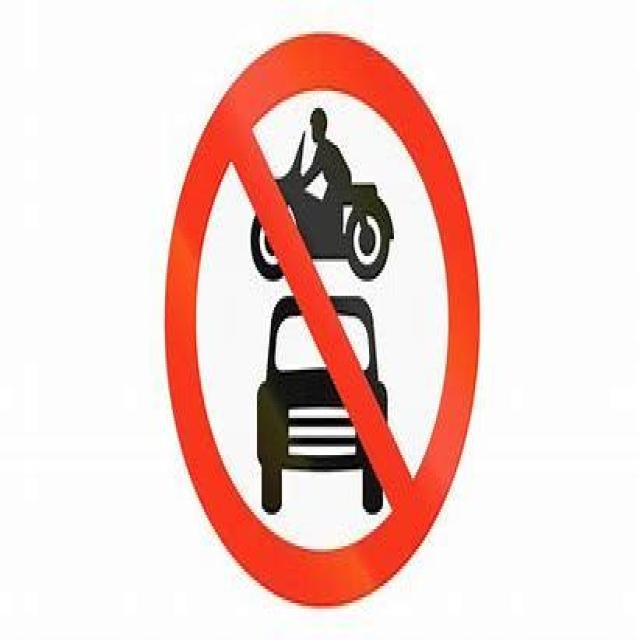ALL_MOTOR_VEHICLE_PROHIBITED: (154, 26, 489, 624)
